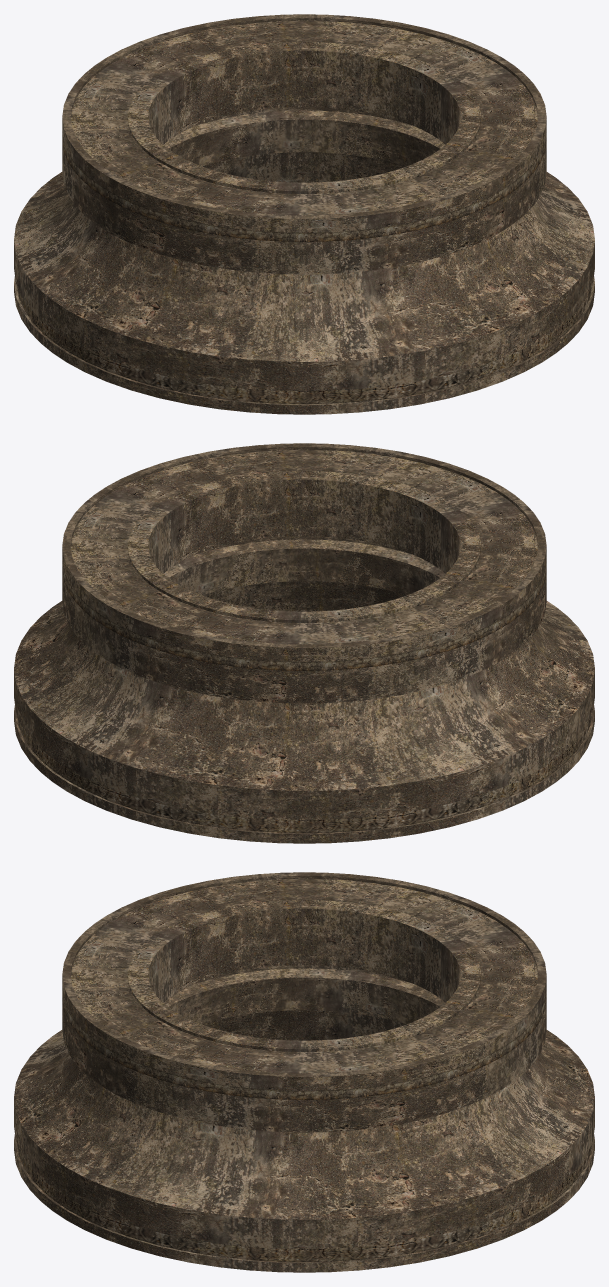
Rendered from materials_5_wall_cylinder_5.fbx.
3 renders of one model, top to bottom at view 1: azimuth 30°, elevation 25°; view 2: azimuth 150°, elevation 25°; view 3: azimuth 270°, elevation 25°, orthographic.
Parts seen in each view (by area): view 1: materials_5_wall_cylinder_5; view 2: materials_5_wall_cylinder_5; view 3: materials_5_wall_cylinder_5.
Part boxes in pixels (bbox=[...]): materials_5_wall_cylinder_5: bbox=[14, 14, 594, 414]; materials_5_wall_cylinder_5: bbox=[14, 443, 594, 843]; materials_5_wall_cylinder_5: bbox=[14, 872, 594, 1272].
Bounding box in the file's own units: 556 × 185 × 556.
